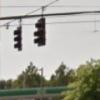traffic lights: (34, 18, 46, 47)
